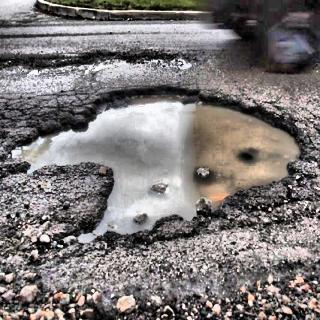pothole: (7, 79, 312, 250), (12, 49, 200, 76)
